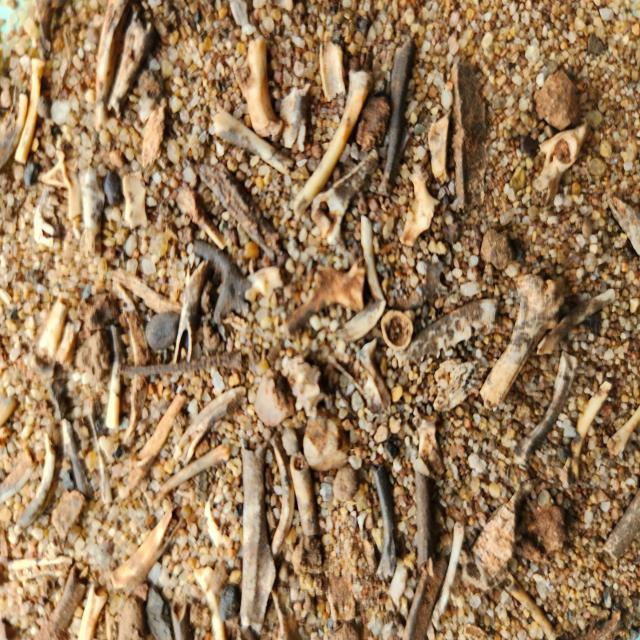fossil: (476, 265, 569, 416), (288, 69, 374, 223), (264, 253, 370, 367), (196, 158, 289, 265), (94, 506, 184, 616), (390, 291, 507, 372), (461, 477, 542, 590), (508, 348, 576, 472), (444, 52, 494, 217), (238, 439, 279, 636), (373, 33, 419, 202), (309, 148, 382, 250), (557, 375, 615, 492), (168, 385, 247, 469), (532, 285, 618, 361), (129, 387, 191, 491), (523, 122, 592, 213), (230, 35, 286, 146), (189, 236, 256, 328), (208, 106, 296, 176), (6, 429, 58, 546), (324, 335, 395, 420), (95, 254, 185, 321), (105, 10, 157, 122), (151, 440, 233, 510), (116, 278, 150, 446), (92, 0, 132, 135), (21, 293, 76, 383), (170, 254, 213, 369), (30, 559, 91, 640), (394, 247, 457, 324), (590, 481, 640, 572), (368, 457, 402, 588), (514, 484, 566, 569), (401, 551, 450, 640), (264, 434, 298, 562), (111, 351, 252, 381), (430, 518, 466, 630), (407, 463, 441, 579), (13, 56, 48, 167), (530, 64, 588, 130), (500, 573, 557, 640), (298, 412, 356, 477), (277, 347, 328, 420), (83, 390, 115, 506), (288, 443, 323, 548), (174, 185, 227, 253), (399, 165, 441, 250), (58, 414, 94, 509), (251, 365, 299, 435), (75, 164, 108, 261), (430, 356, 480, 418), (29, 352, 70, 426), (558, 598, 627, 640), (288, 522, 333, 586), (600, 396, 640, 467), (276, 79, 314, 153), (100, 321, 124, 436), (334, 296, 389, 346), (0, 440, 36, 513), (191, 561, 224, 640), (411, 410, 448, 480), (137, 94, 169, 174), (32, 180, 66, 255), (76, 285, 119, 344), (604, 190, 640, 259), (352, 92, 392, 154), (358, 209, 385, 300), (376, 305, 421, 359), (98, 432, 131, 503), (425, 103, 452, 189), (315, 37, 349, 104), (238, 262, 288, 307), (48, 486, 88, 542), (5, 554, 77, 585), (73, 329, 114, 383), (74, 578, 109, 640), (140, 308, 186, 354), (120, 164, 150, 234), (476, 221, 517, 272), (0, 88, 27, 165), (382, 555, 416, 616), (201, 497, 236, 556), (269, 583, 305, 640), (324, 577, 361, 630), (140, 585, 173, 640), (116, 591, 146, 640), (216, 577, 246, 625), (37, 154, 72, 195), (51, 321, 78, 374), (96, 166, 127, 211), (65, 157, 85, 221), (167, 597, 190, 640), (135, 484, 158, 521), (0, 385, 20, 426)
